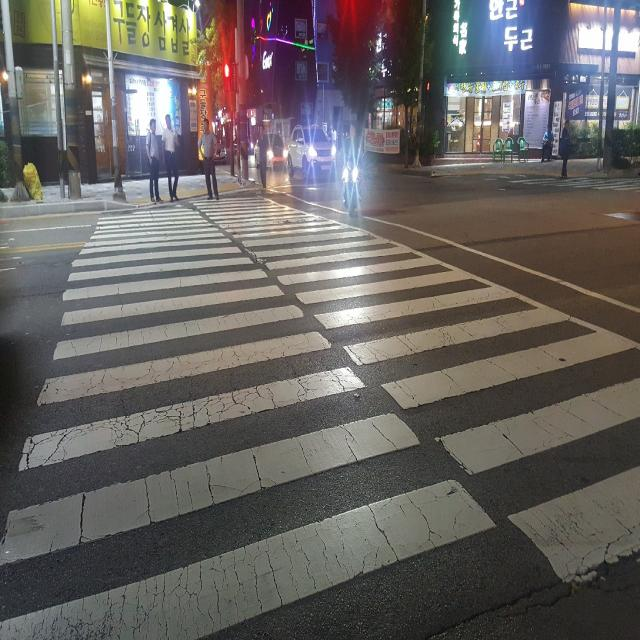빨간불: (224, 59, 234, 98)
횡단보도: (0, 194, 640, 640)
